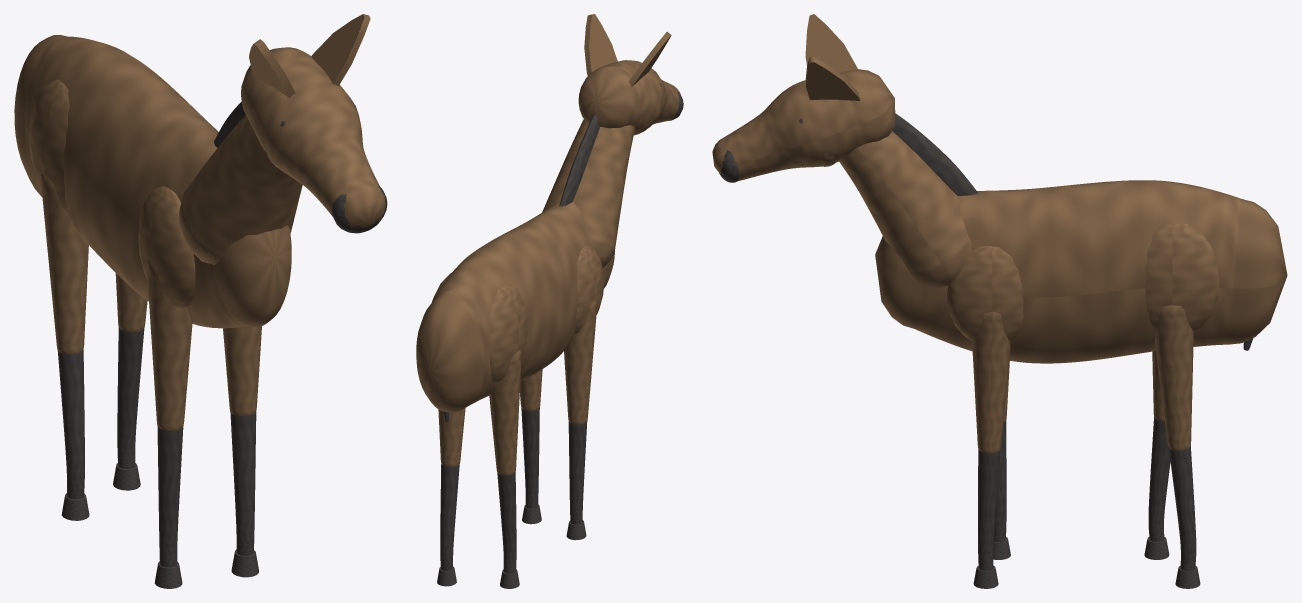
Rendered from farm-and-working-animals-hd-foal-ddb9effb__29173.glb.
The picture shows the model from 3 angles, left to right: view 1: azimuth 30°, elevation 25°; view 2: azimuth 150°, elevation 25°; view 3: azimuth 270°, elevation 25°; orthographic projection. The views are drawn at different scales.
Parts seen in each view (by area): view 1: foal; view 2: foal; view 3: foal.
Part boxes in pixels (box(x1,y1,x2,y2)): foal: box(14, 14, 387, 588); foal: box(416, 14, 683, 588); foal: box(712, 14, 1287, 588).
Size of the model in its own units: 0.2856 by 1.48 by 1.44.
2 materials, 2 textured.
